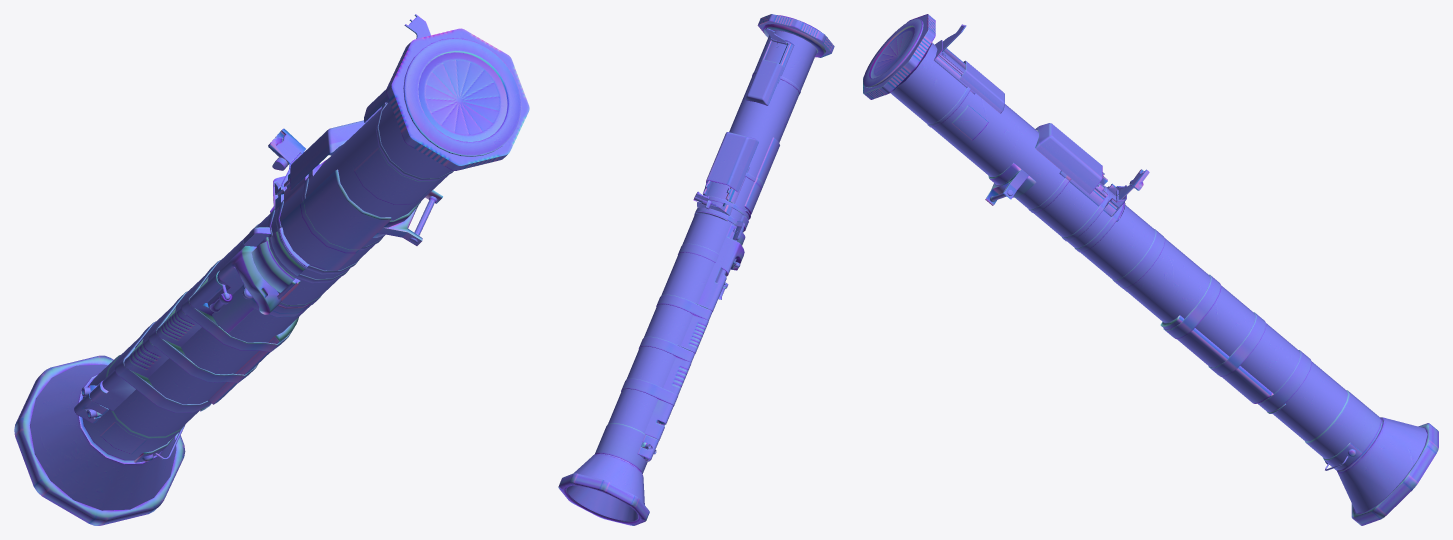
File: mdlATMPickup Variant.fbx
3 renders of one model, left to right at view 1: azimuth 30°, elevation 25°; view 2: azimuth 150°, elevation 25°; view 3: azimuth 270°, elevation 25°, orthographic. The views are drawn at different scales.
Visible parts, largest first — view 1: Model; view 2: Model; view 3: Model.
Part boxes in pixels (x1=…): Model: x1=14, y1=14, x2=529, y2=525; Model: x1=558, y1=14, x2=834, y2=525; Model: x1=863, y1=14, x2=1438, y2=525.
Bounding box in the file's own units: 41.93 × 199 × 210.
